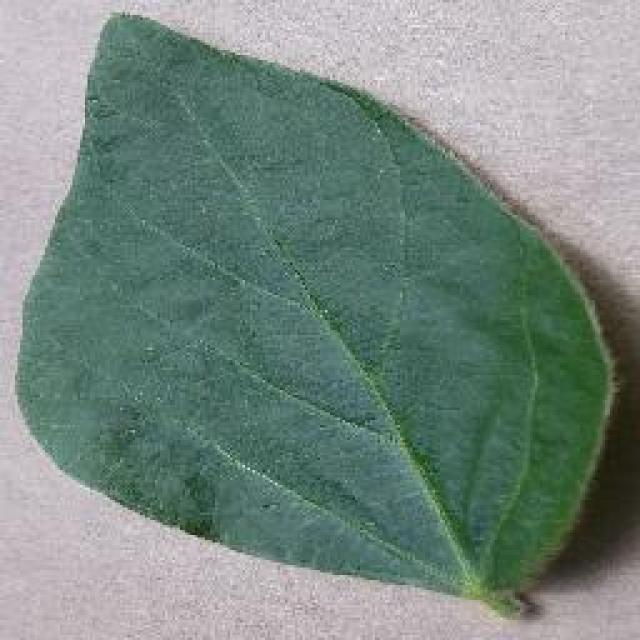Soy_healthy: (32, 55, 581, 542)
